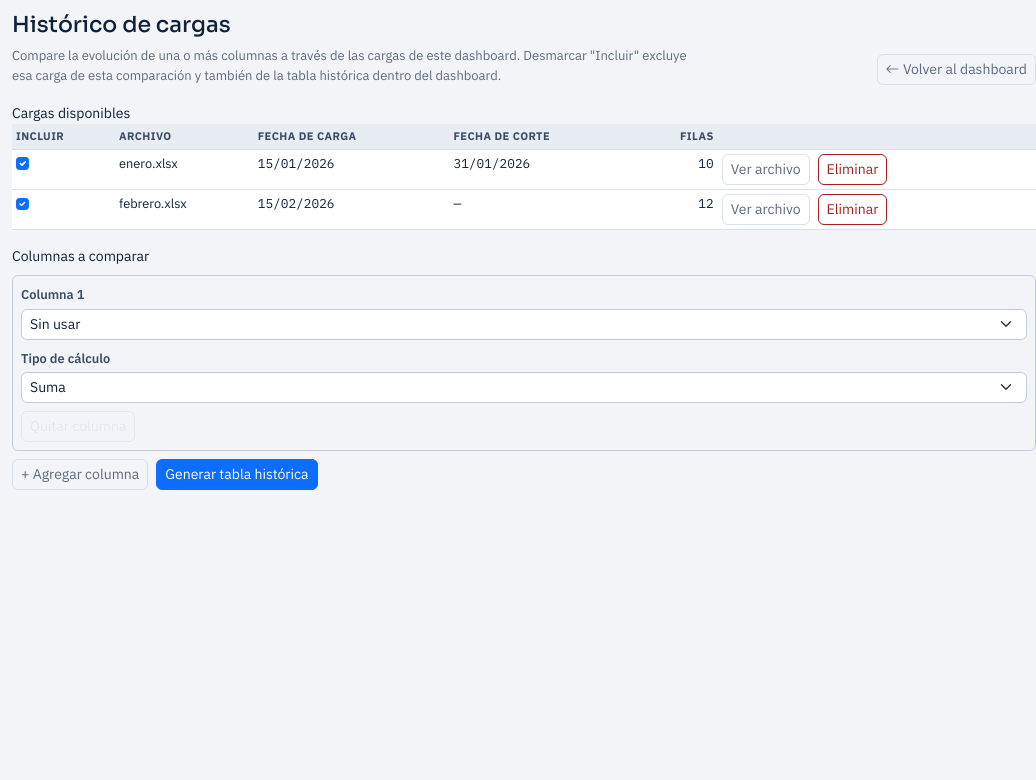
Test: DashboardHistoricoPage › si falla al persistir, revierte el checkbox y muestra un error
Expected: the text "enero.xlsx" is shown, [115, 149, 254, 190]
Click the checkbox named "Incluir febrero.xlsx" at (22, 204), box [16, 198, 29, 210]
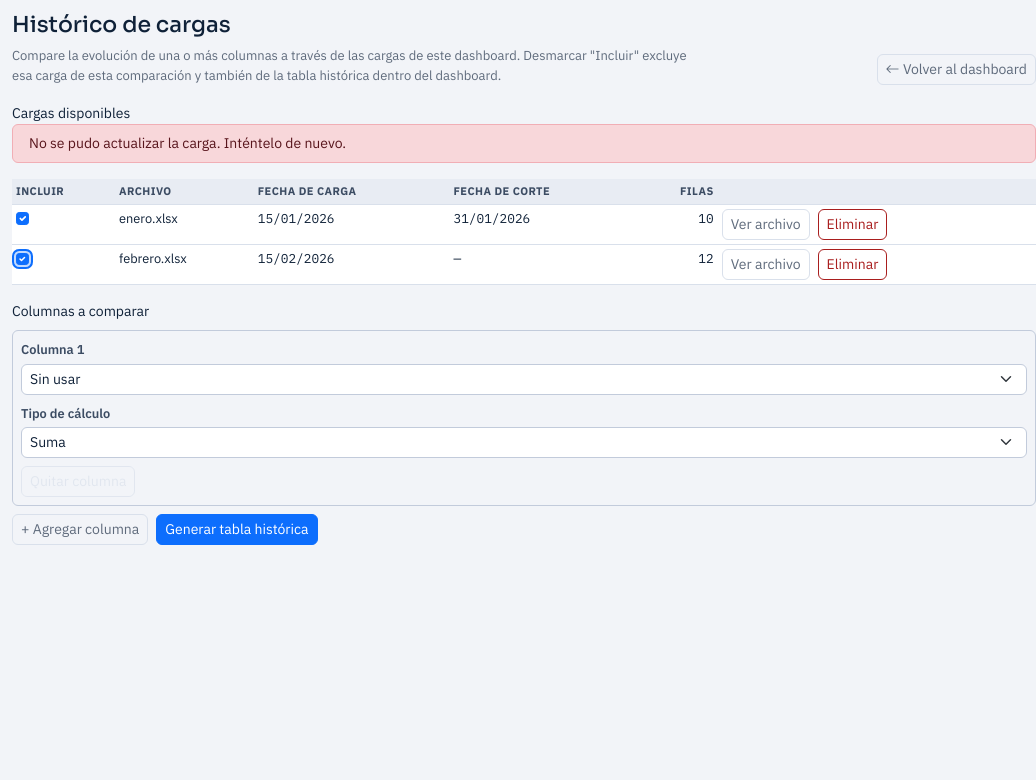
Expected: the checkbox named "Incluir febrero.xlsx" is checked, [16, 253, 29, 265]
Expected: the text "No se pudo actualizar la carga. Inténtelo de nuevo." is shown, [12, 124, 1035, 163]
